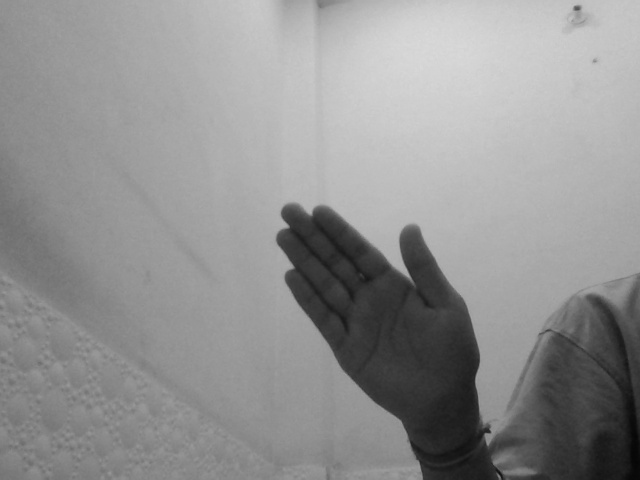Hello: (267, 200, 488, 447)
